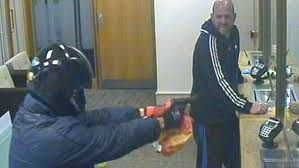gun: (164, 90, 200, 123)
